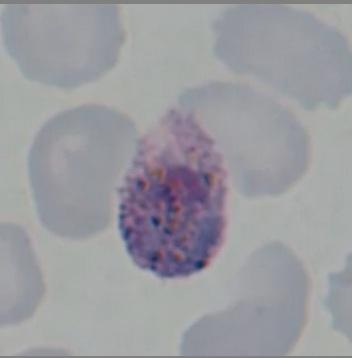Infected: (119, 107, 230, 278)
Uninfected: (207, 0, 352, 111), (177, 81, 313, 199), (176, 241, 311, 358), (26, 101, 137, 239), (0, 0, 124, 90)
